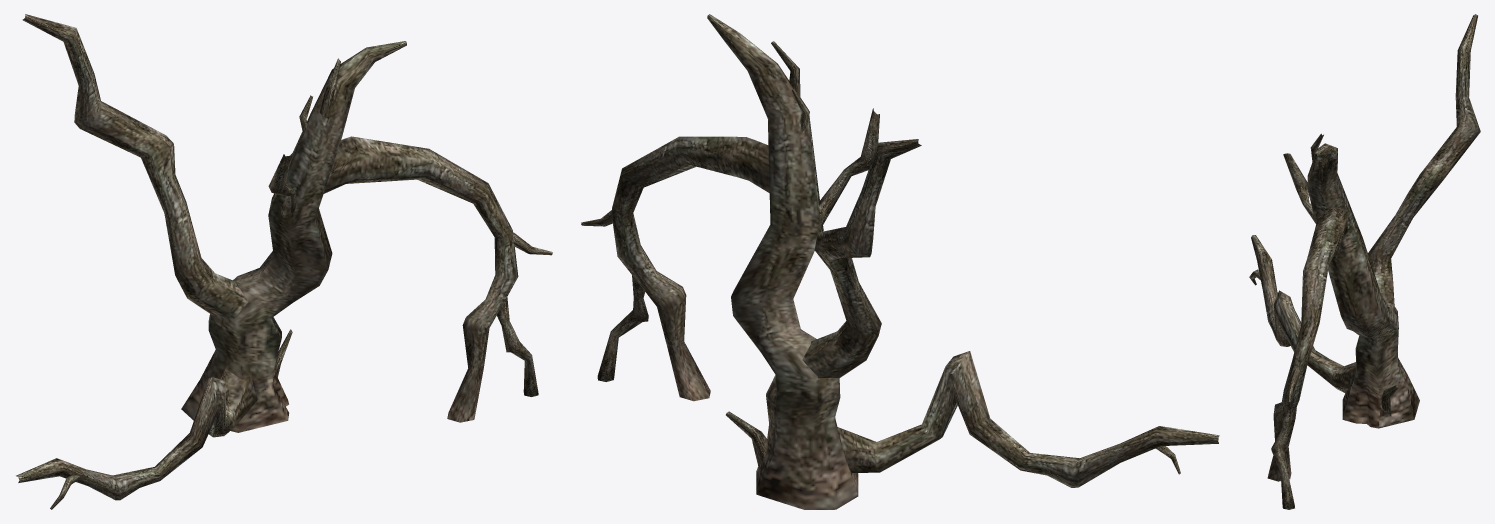
Rendered from deadwood_08.glb.
The picture shows the model from 3 angles, left to right: view 1: azimuth 30°, elevation 25°; view 2: azimuth 150°, elevation 25°; view 3: azimuth 270°, elevation 25°; orthographic projection. The views are drawn at different scales.
Visible parts, largest first — view 1: deadwood_08; view 2: deadwood_08; view 3: deadwood_08.
Boxes of the visible parts, x1,y1,x2,y2 form: deadwood_08: [16, 14, 552, 509]; deadwood_08: [581, 14, 1219, 509]; deadwood_08: [1249, 14, 1480, 509].
Bounding box in the file's own units: 22.42 × 15.16 × 9.61.
1 material, 1 textured.
